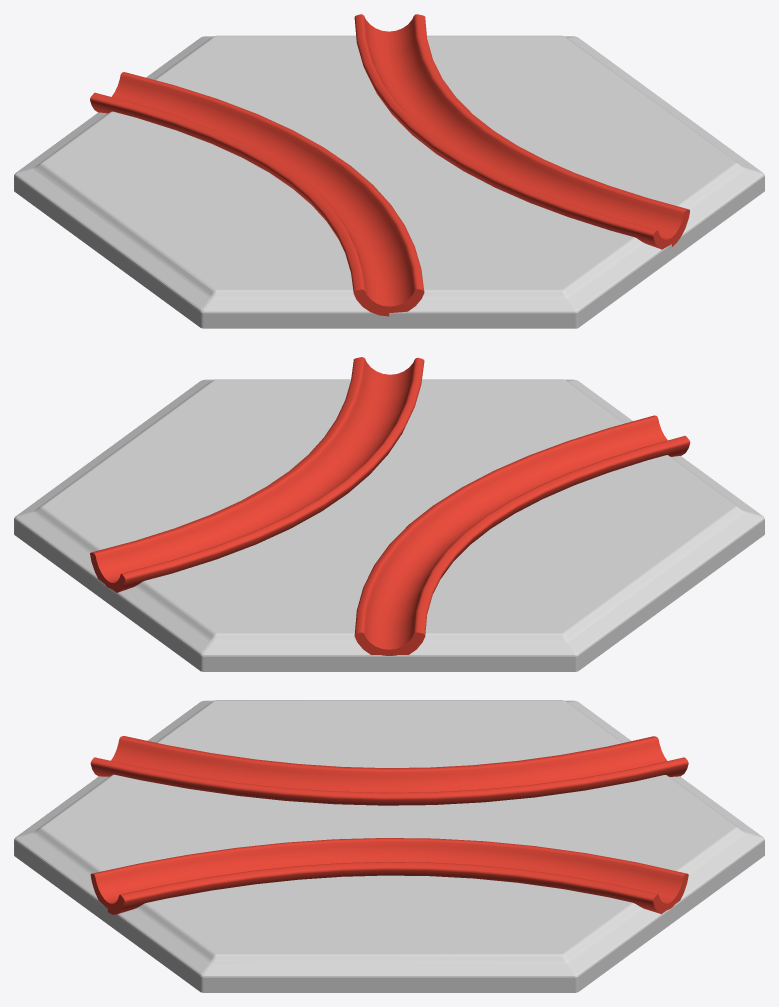
The model's file is tile_2arcs.glb.
The picture shows the model from 3 angles, top to bottom: view 1: azimuth 30°, elevation 25°; view 2: azimuth 150°, elevation 25°; view 3: azimuth 270°, elevation 25°; orthographic projection.
Visible parts, largest first — view 1: arc_tunnel.001; view 2: arc_tunnel.001; view 3: arc_tunnel.001.
Boxes of the visible parts, <box> form: arc_tunnel.001: <box>14,14,764,328</box>; arc_tunnel.001: <box>14,357,764,671</box>; arc_tunnel.001: <box>14,700,764,992</box>.
Size of the model in its own units: 1.73 by 0.1158 by 2.
